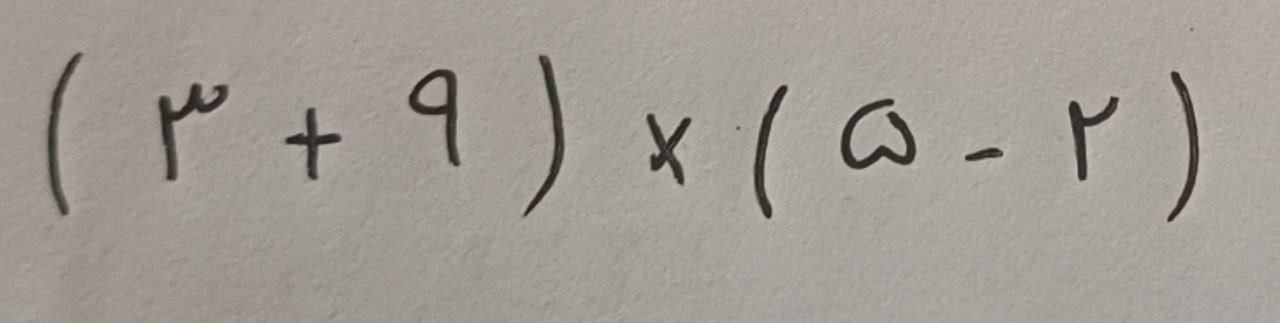character: (160, 83, 232, 181), (47, 52, 87, 217), (526, 55, 566, 215), (840, 98, 917, 171), (408, 70, 461, 167), (1166, 72, 1199, 223), (753, 86, 788, 221), (1068, 95, 1119, 181), (283, 108, 342, 178), (647, 113, 691, 185), (964, 146, 1006, 163)
